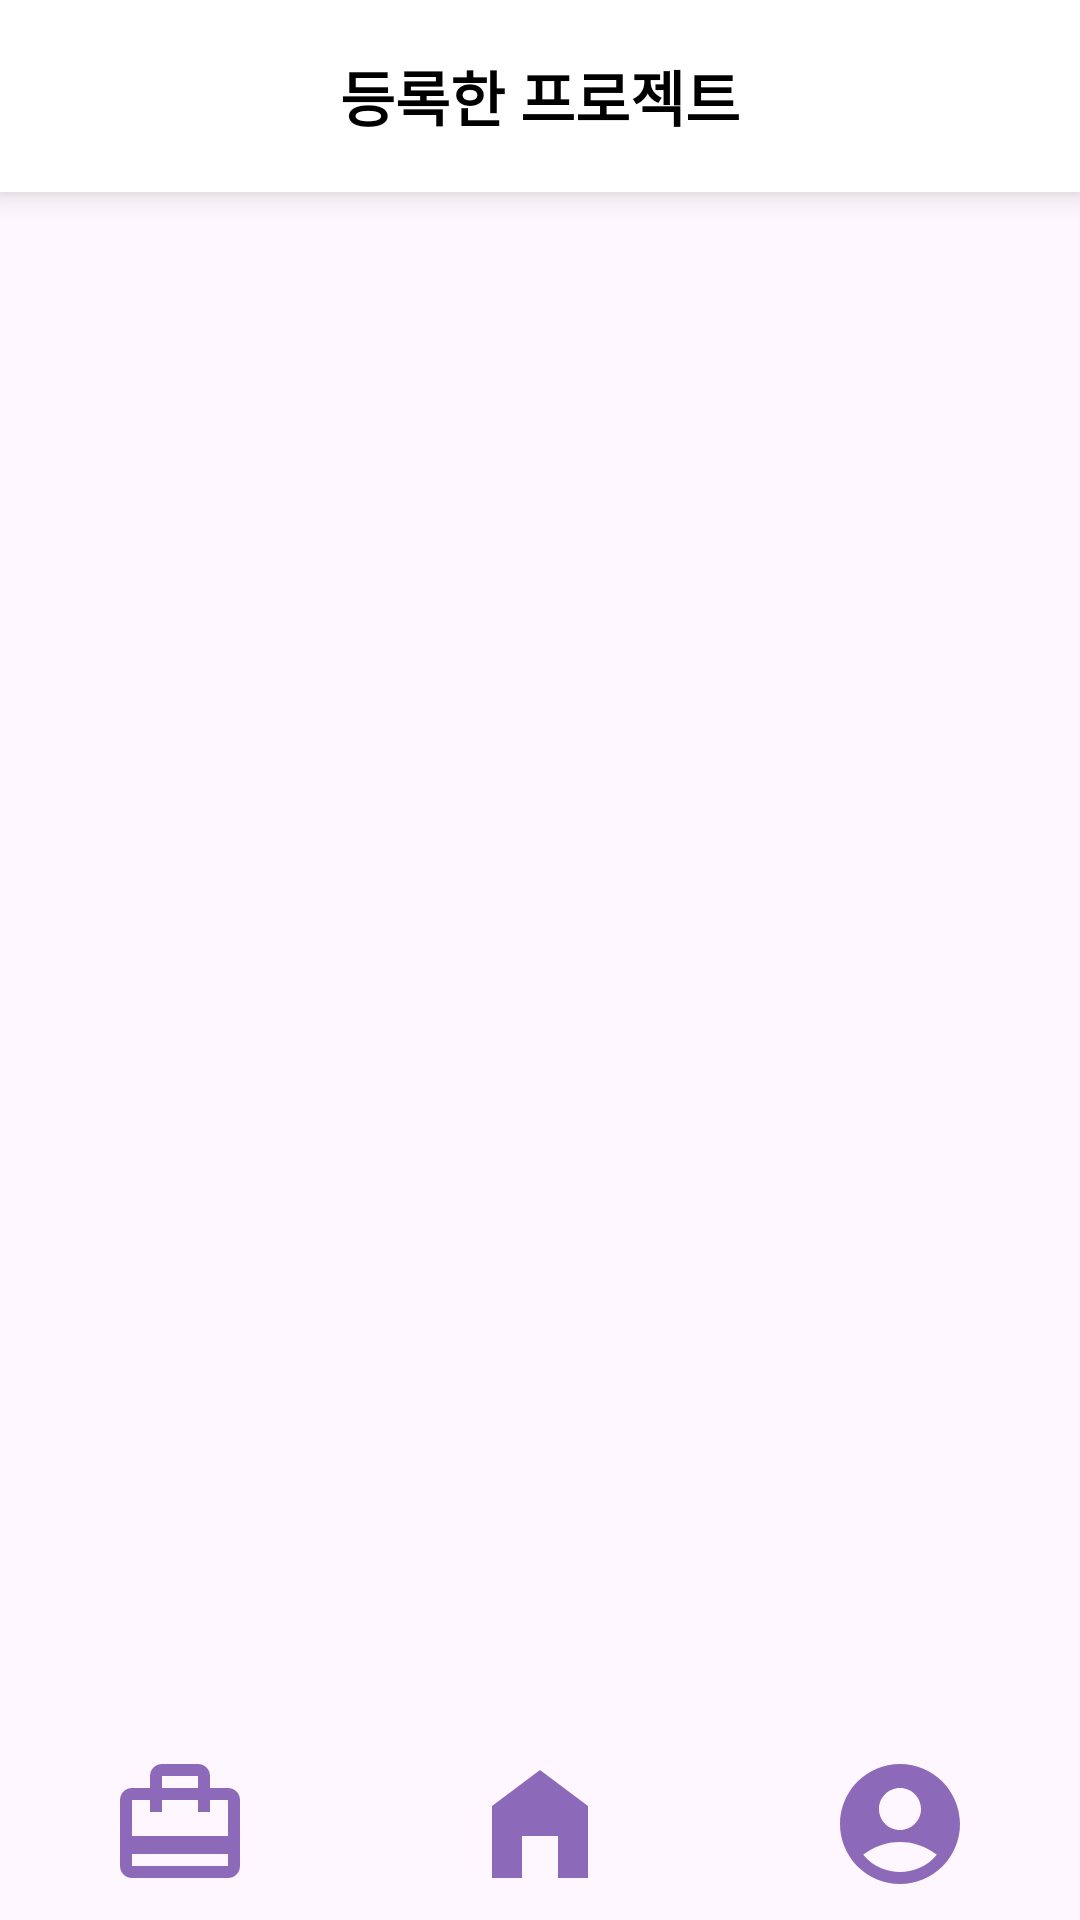

Locate icon controls on the screen. Image size 1080*1920, boxes as Rect(x1, y1, x2, y2).
home: Rect(492, 1770, 588, 1878)
projects: Rect(120, 1764, 240, 1878)
